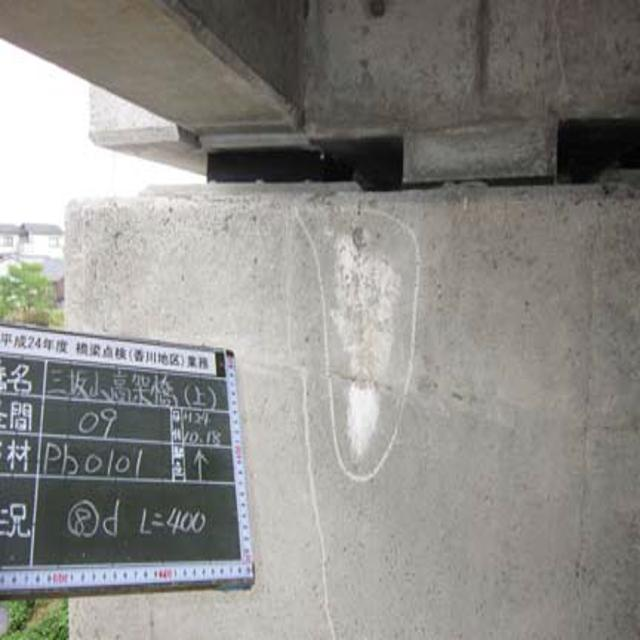freelime: (320, 232, 399, 478)
